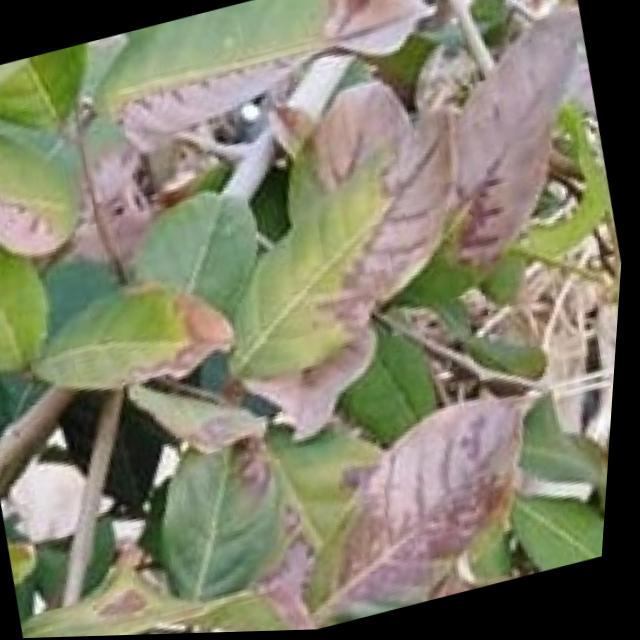Leaf Blight: (337, 375, 603, 600), (267, 52, 490, 278), (441, 5, 629, 260), (225, 251, 479, 428), (86, 32, 346, 192), (145, 254, 286, 480), (0, 105, 100, 297), (291, 0, 463, 80)
